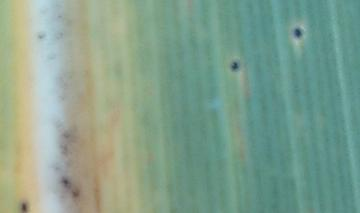tarspot: (292, 26, 303, 41), (229, 59, 240, 72), (19, 200, 29, 213), (59, 176, 70, 187), (35, 32, 47, 41)
